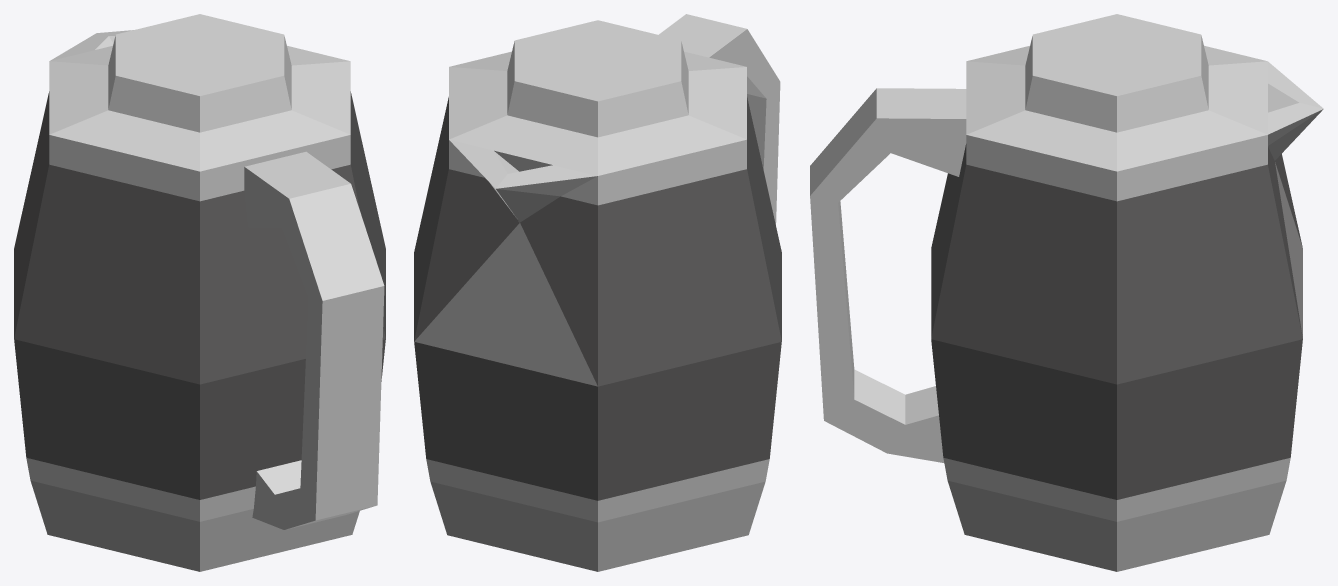
File: SM_Prop_Coffee_Pot_Filled.obj
3 renders of one model, left to right at view 1: azimuth 30°, elevation 25°; view 2: azimuth 150°, elevation 25°; view 3: azimuth 270°, elevation 25°, orthographic.
Visible parts, largest first — view 1: SM_Prop_Coffee_Pot_Filled_Mat_PolygonTown_01_A, SM_Prop_Coffee_Pot_Filled_Mat_PolygonTown_Glass; view 2: SM_Prop_Coffee_Pot_Filled_Mat_PolygonTown_Glass, SM_Prop_Coffee_Pot_Filled_Mat_PolygonTown_01_A; view 3: SM_Prop_Coffee_Pot_Filled_Mat_PolygonTown_Glass, SM_Prop_Coffee_Pot_Filled_Mat_PolygonTown_01_A.
Part boxes in pixels (<box>): SM_Prop_Coffee_Pot_Filled_Mat_PolygonTown_01_A: <box>26,14,384,571</box>; SM_Prop_Coffee_Pot_Filled_Mat_PolygonTown_Glass: <box>14,91,385,499</box>; SM_Prop_Coffee_Pot_Filled_Mat_PolygonTown_Glass: <box>414,97,781,500</box>; SM_Prop_Coffee_Pot_Filled_Mat_PolygonTown_01_A: <box>426,14,780,571</box>; SM_Prop_Coffee_Pot_Filled_Mat_PolygonTown_Glass: <box>931,144,1302,499</box>; SM_Prop_Coffee_Pot_Filled_Mat_PolygonTown_01_A: <box>810,14,1323,571</box>.
Bounding box in the file's own units: 0.2256 × 0.2565 × 0.27.
2 materials, 1 textured.
